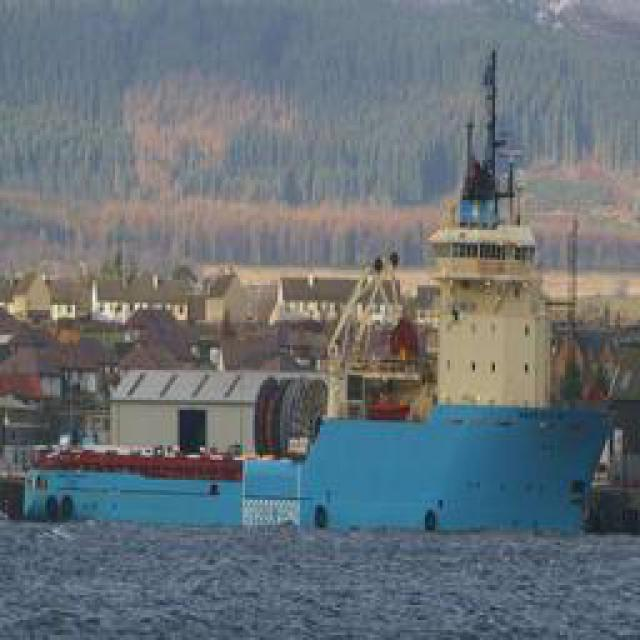Ship: (25, 406, 620, 541)
